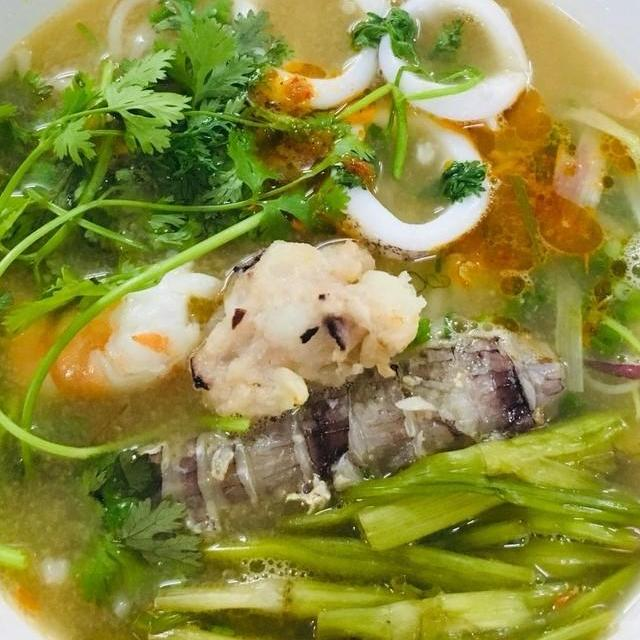muc: (0, 234, 232, 409), (295, 98, 499, 268), (213, 0, 400, 115), (373, 0, 539, 129)
tom tit: (69, 310, 585, 557)
